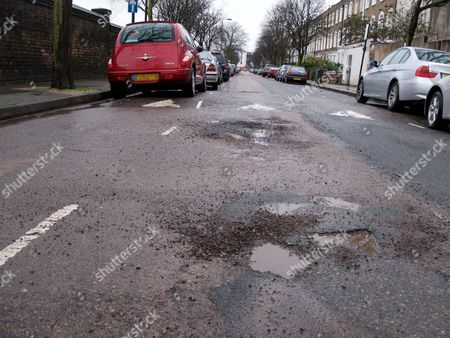pothole: (223, 100, 291, 155), (234, 227, 297, 279), (251, 177, 319, 221), (326, 217, 395, 256)
